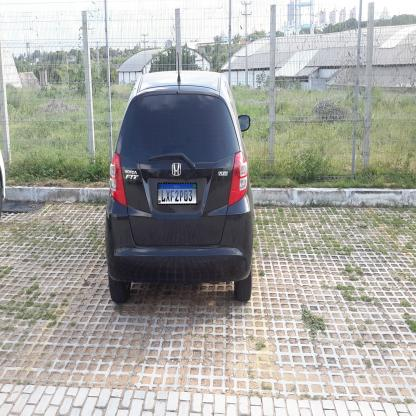PlacaM: (158, 182, 198, 205)
